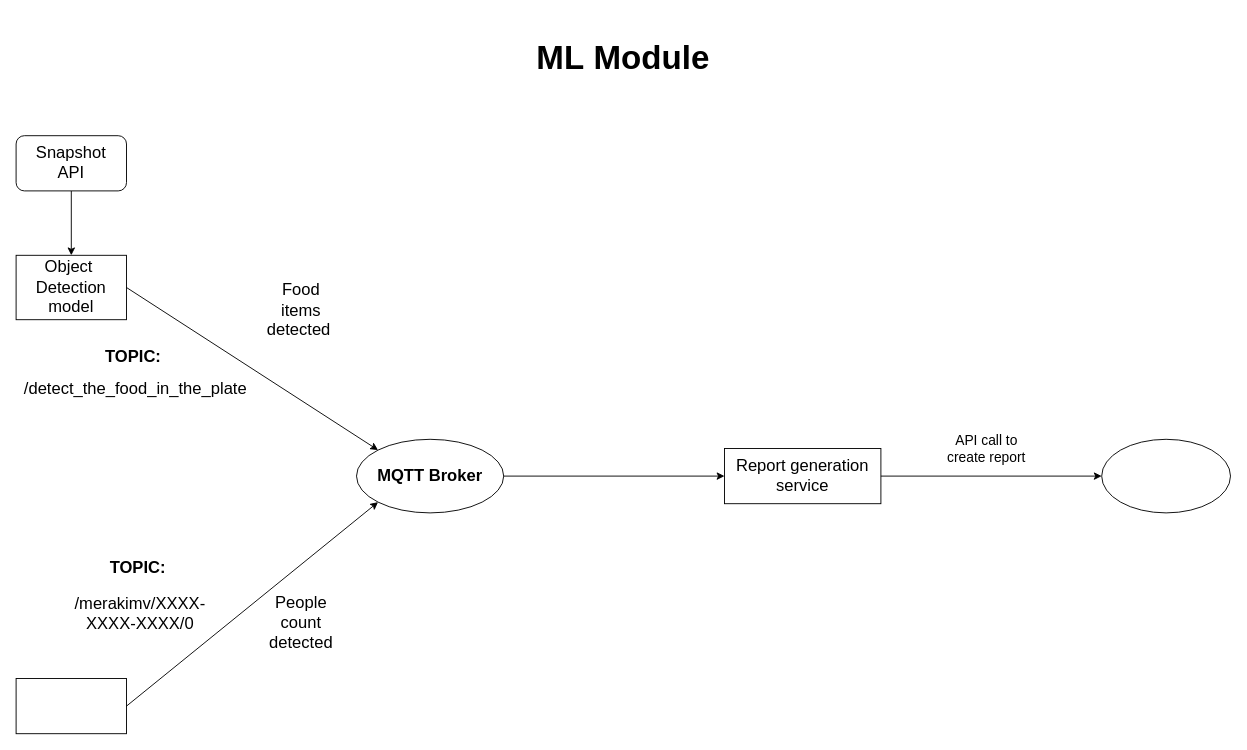
This 1247x750 diagram has some shape labels left out. Each missing label, with the centre of its shape:
Backend: (x=1165, y=475)
MV Sense: (x=70, y=706)
